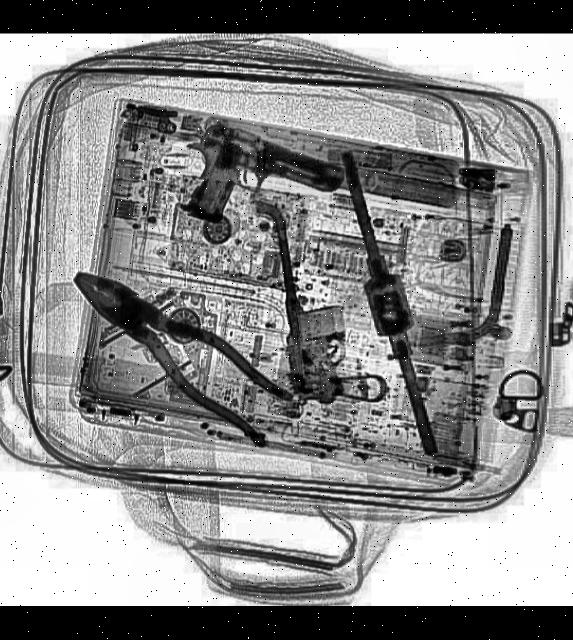Gun: (166, 116, 349, 256), (271, 216, 388, 412)
Pliers: (57, 247, 300, 450)
